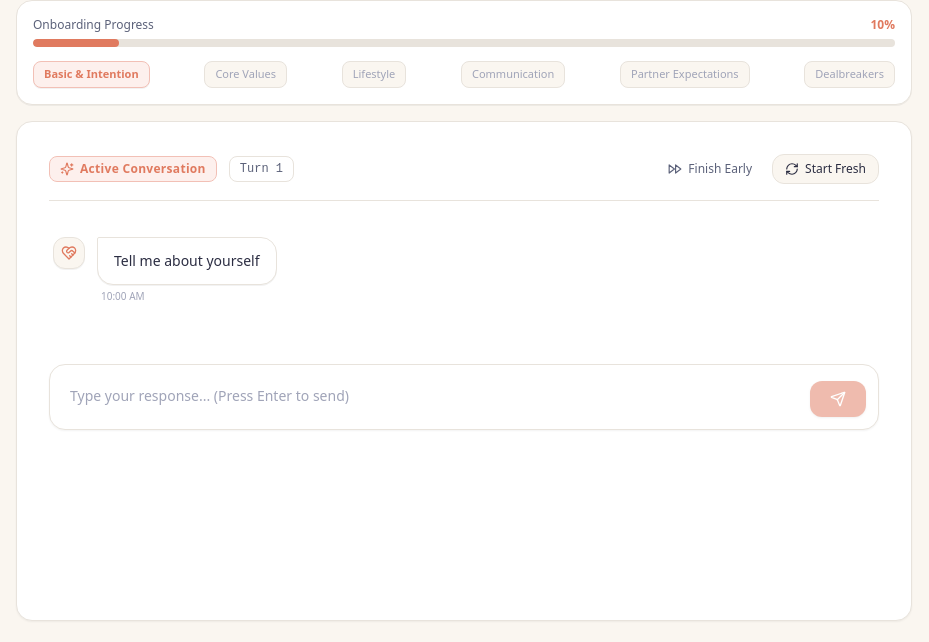
Test: InterviewPage Component › handles multiple identical user messages and targets retry to specific failed message ID
Expected: the text "Tell me about yourself" is shown, [114,250,260,272]
Note: First send: "Hello"
Step 1. Type "Hello" into the text box with placeholder "Type your response... (Press Enter to send)" → (432, 397), box [62,377,802,417]
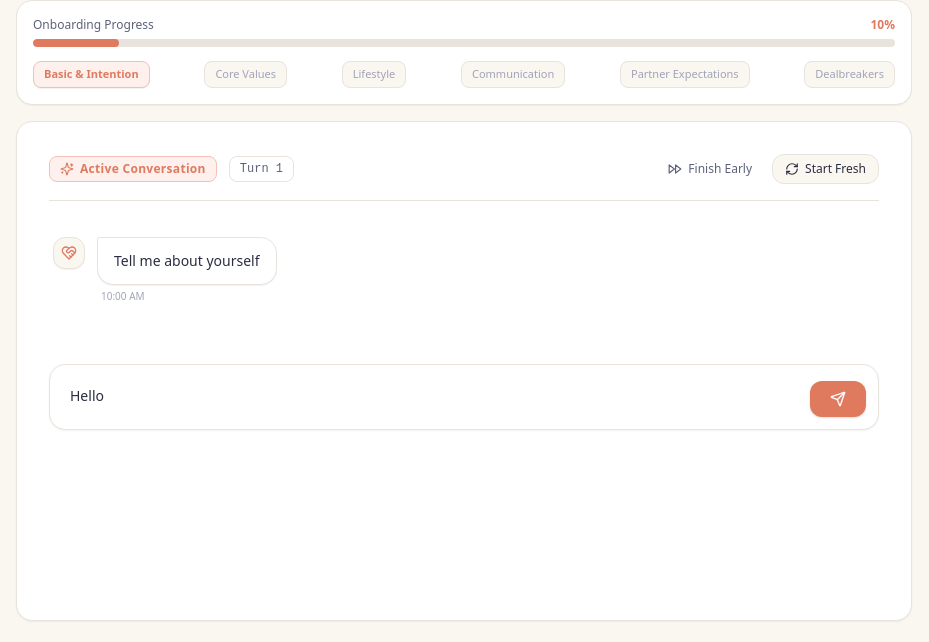
Step 2. Click the 3rd button → (838, 399), box [810,381,866,417]
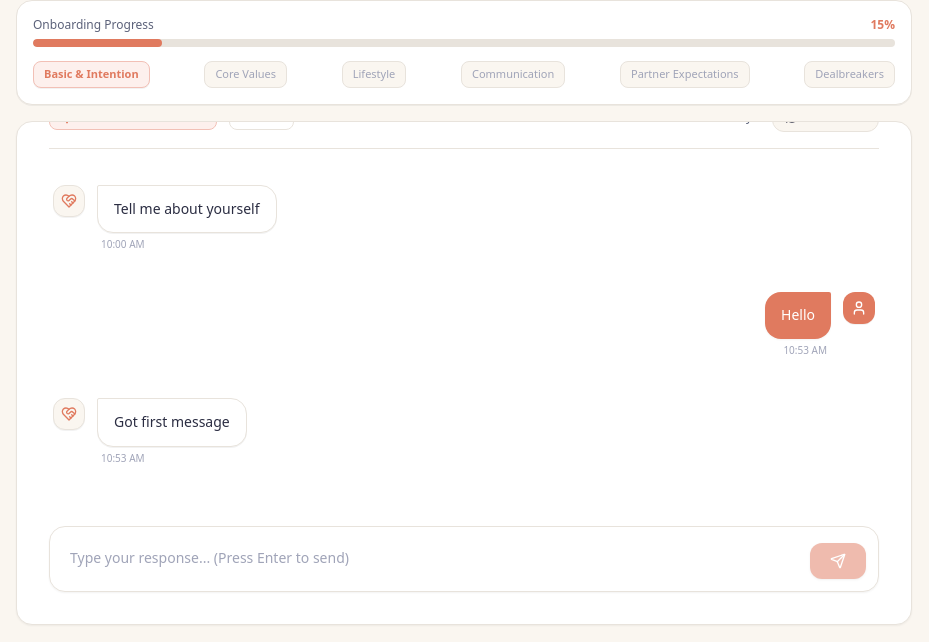
Expected: the text "Got first message" is shown, [114,411,230,434]
Note: Second send: "Hello" (identical text)
Step 3. Type "Hello" into the text box with placeholder "Type your response... (Press Enter to send)" → (432, 559), box [62,539,802,579]
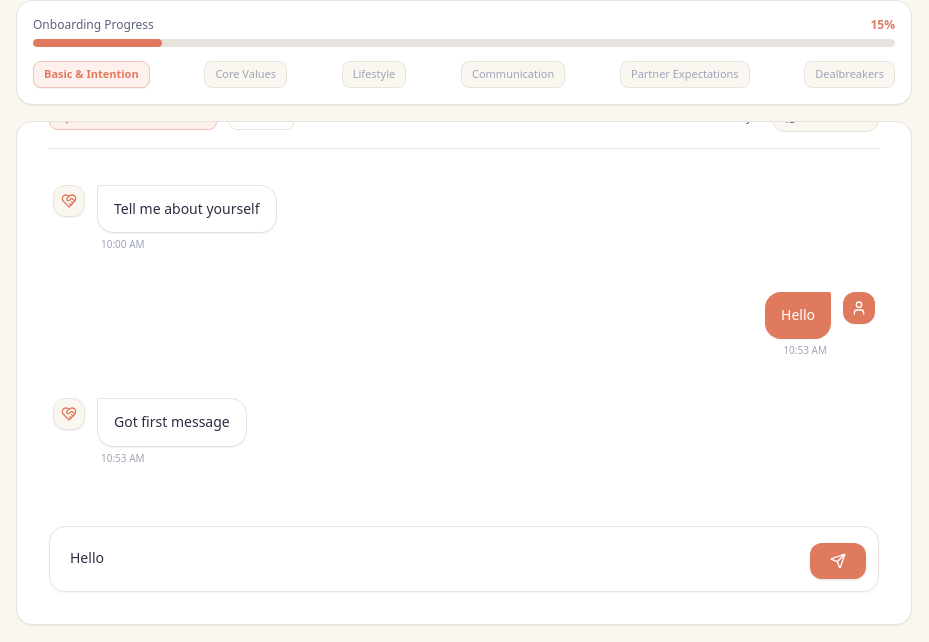
Step 4. Click the 3rd button → (838, 561), box [810,543,866,579]
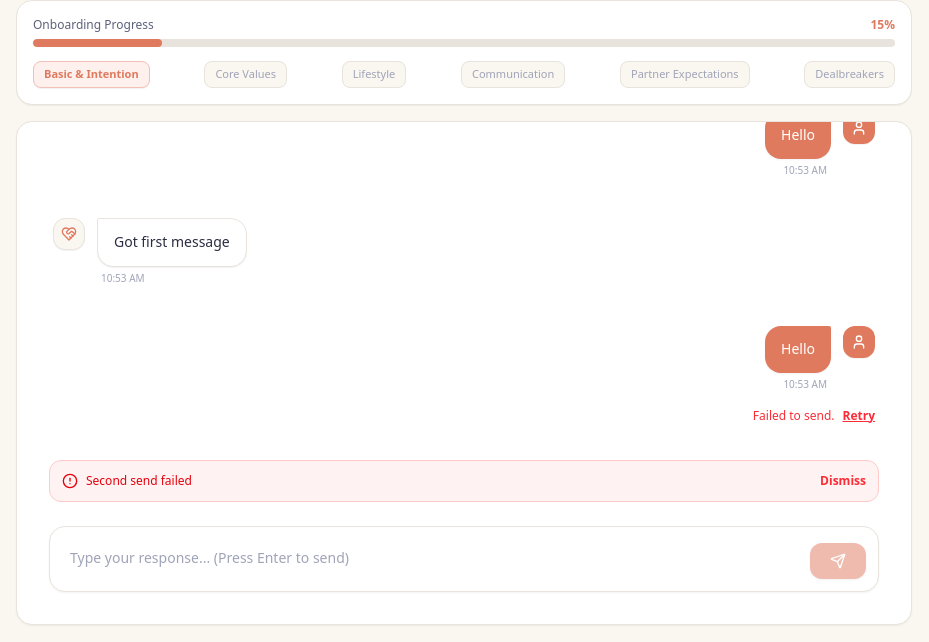
Expected: the text "Failed to send." is shown, [753,408,834,424]
Step 5. Click the button "Retry" → (859, 416), box [842,408,875,424]
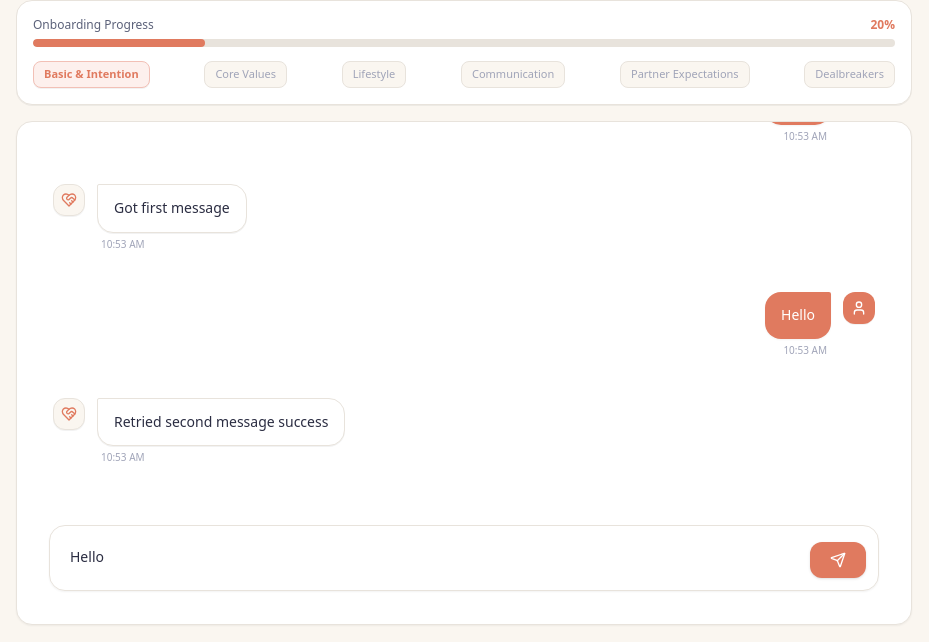
Expected: the text "Retried second message success" is shown, [114,410,328,433]
